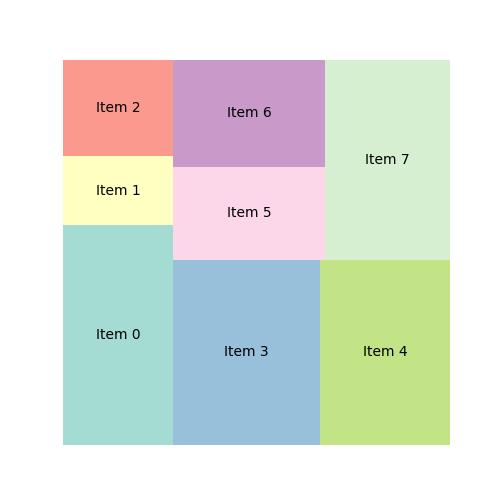rectangle: (174, 259, 321, 445), (326, 59, 449, 259), (321, 259, 451, 447), (64, 226, 174, 445), (173, 59, 326, 166), (174, 166, 326, 259), (63, 60, 174, 157), (63, 155, 175, 225)
